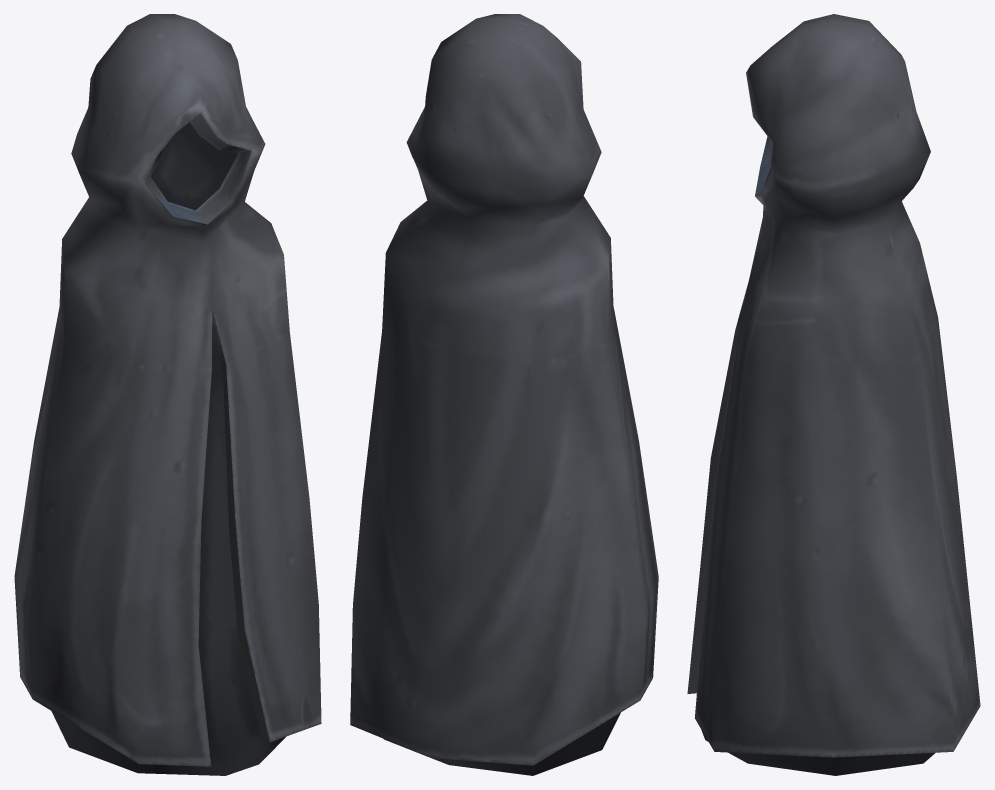
The model's file is Statue.FBX.
3 renders of one model, left to right at view 1: azimuth 30°, elevation 25°; view 2: azimuth 150°, elevation 25°; view 3: azimuth 270°, elevation 25°, orthographic.
Visible parts, largest first — view 1: Object066; view 2: Object066; view 3: Object066.
Boxes of the visible parts, box(x1,y1,x2,y2) form: Object066: box(14, 14, 321, 775); Object066: box(350, 14, 658, 775); Object066: box(687, 14, 980, 775).
Bounding box in the file's own units: 111 × 270 × 102.
1 material, 1 textured.
